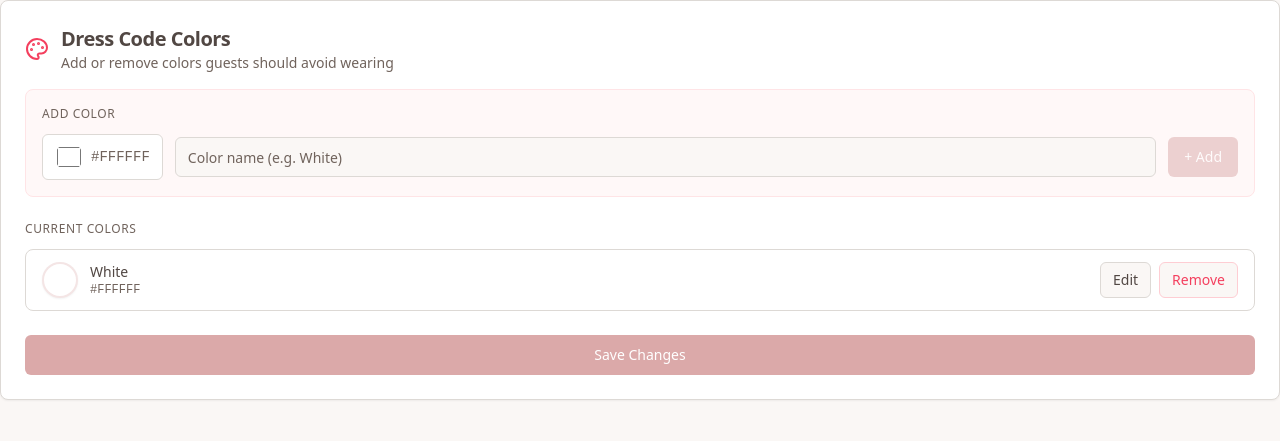
Test: DressCodePage › removes a color when Remove is clicked
Click the button with test id "button-remove-0": (1199, 280) [1159,262,1238,298]
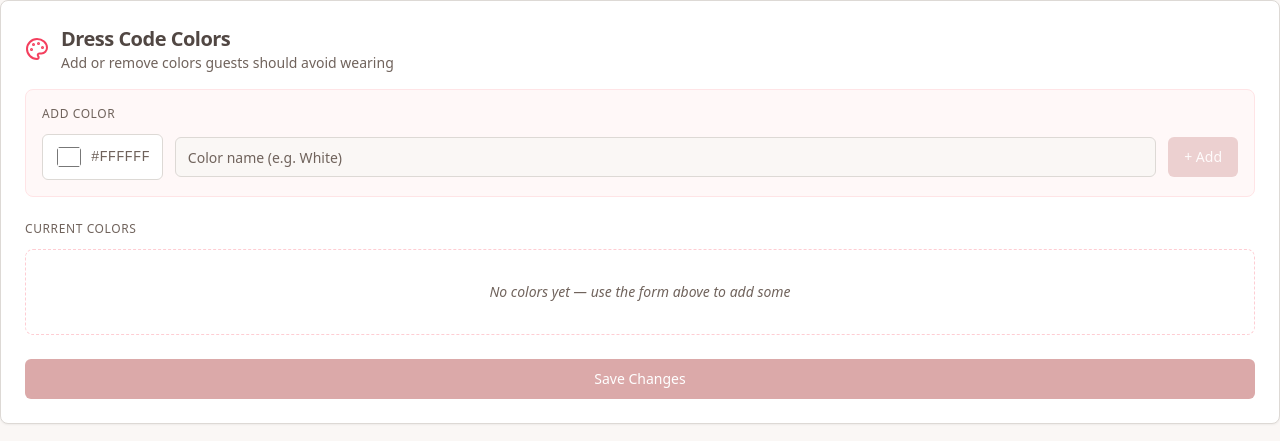
Result: the text "No colors yet — use the form above to add some" is shown at [489,282,791,301]
